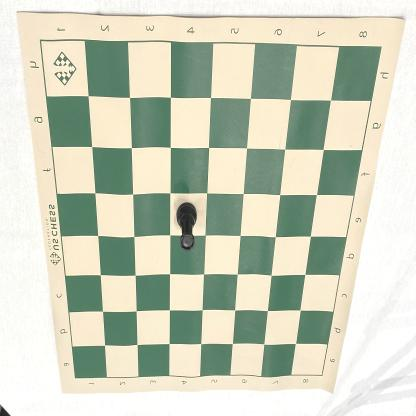black-rook: (176, 200, 198, 251)
